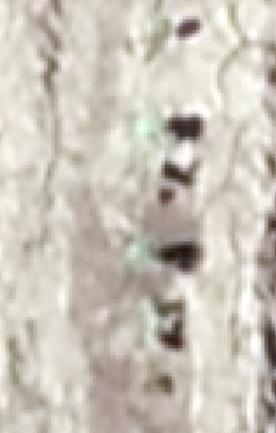cotton: (141, 117, 163, 137), (134, 246, 156, 266), (148, 312, 160, 334), (154, 157, 163, 179), (158, 21, 169, 38)
